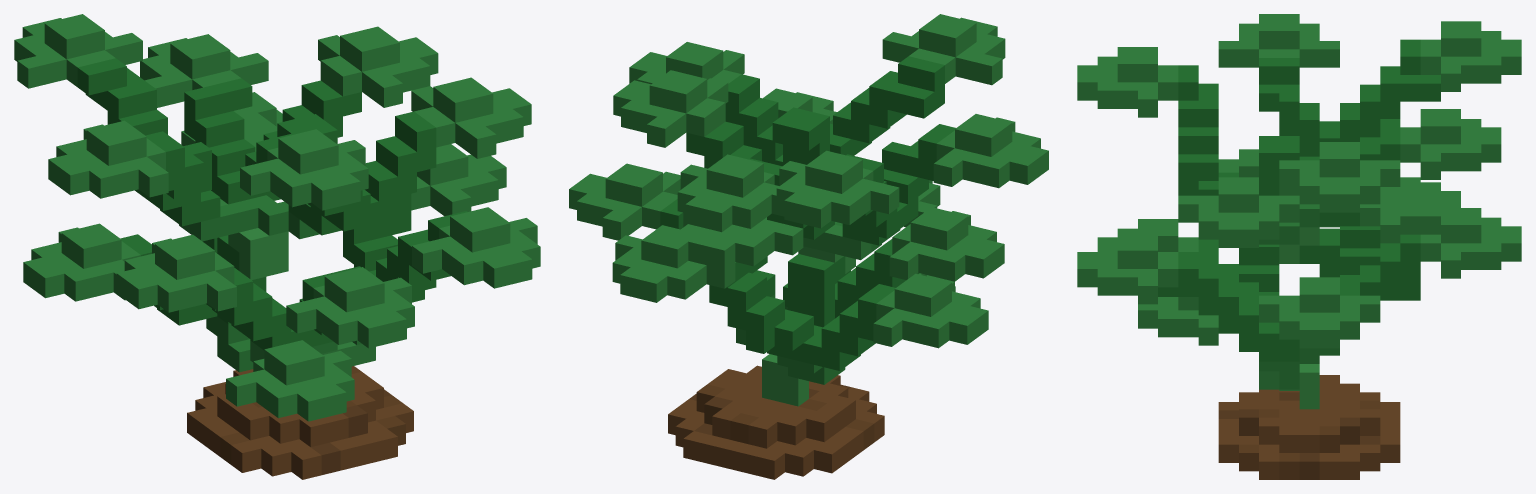
The model's file is 0_0 feij.obj.
The picture shows the model from 3 angles, left to right: view 1: azimuth 30°, elevation 25°; view 2: azimuth 150°, elevation 25°; view 3: azimuth 270°, elevation 25°; orthographic projection. The views are drawn at different scales.
Bounding box in the file's own units: 2.4 × 1.9 × 2.2.
Materials: 1 (1 with a texture image).
